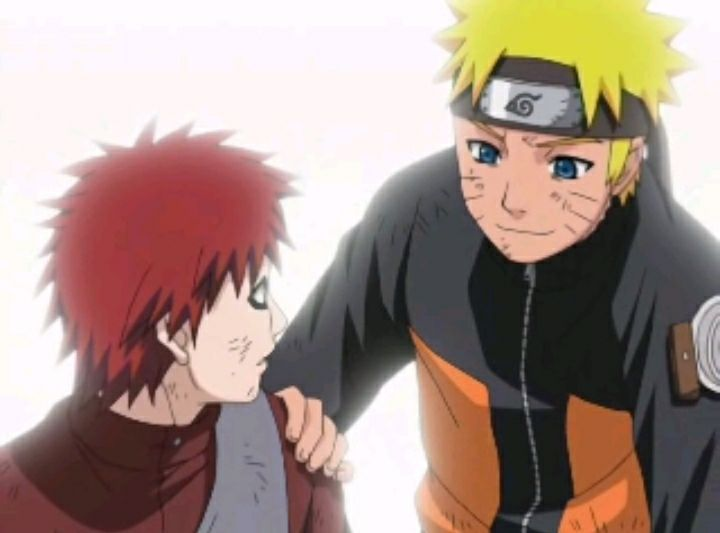gaara: (149, 237, 292, 409)
naruto: (444, 48, 649, 270)
